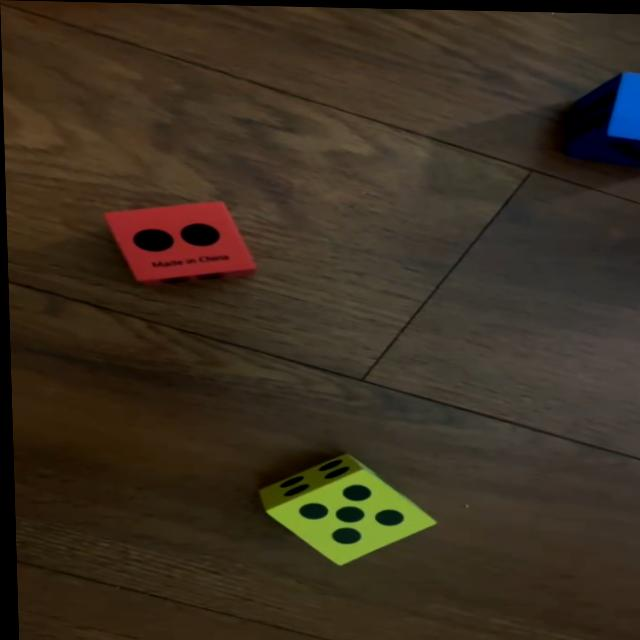blue_block: (570, 67, 640, 163)
red_block: (106, 197, 256, 287)
